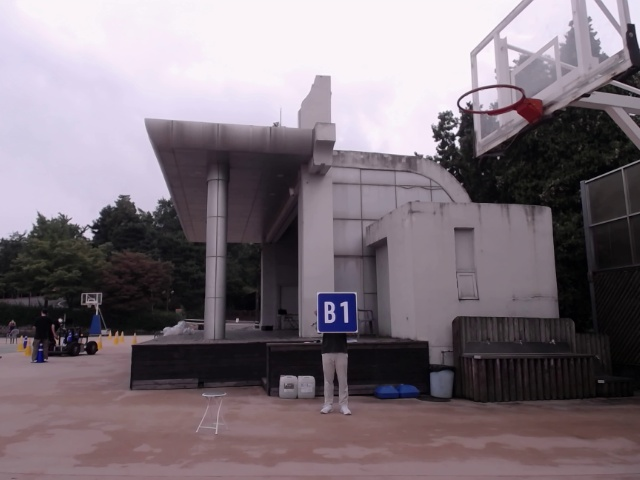delivery_b1: (317, 292, 358, 333)
